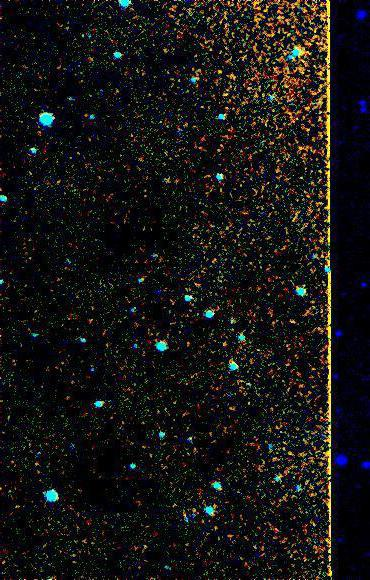star: (207, 59, 237, 89)
